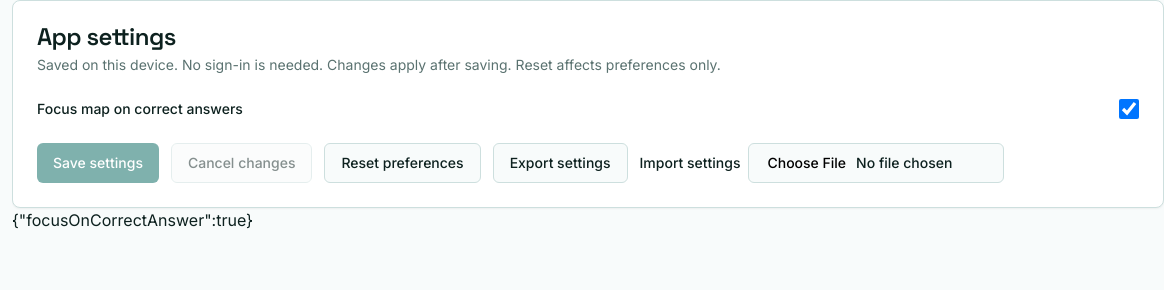
all app settings › does not claim a save succeeded when local storage is blocked
Click the checkbox at [1129, 109], box [1119, 99, 1139, 119]
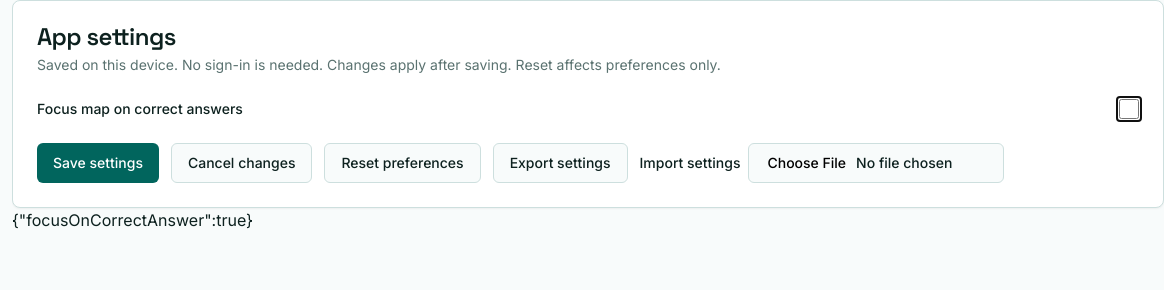
Click the button "Save settings" at [98, 163], box [37, 143, 159, 183]
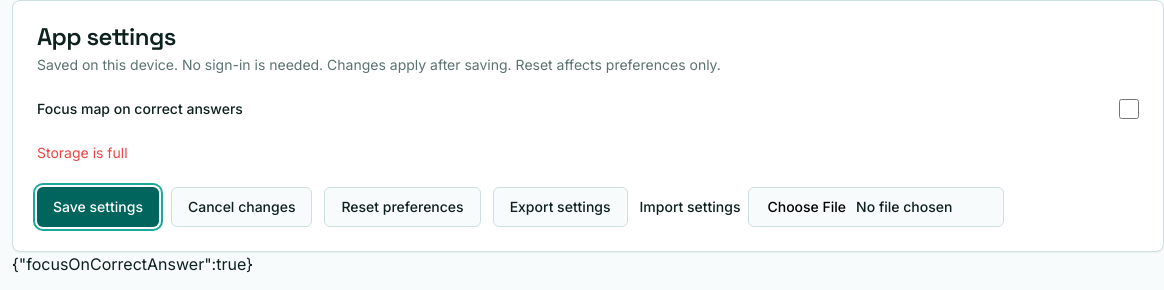
Result: the message reads "Storage is full" at [37, 144, 128, 161]
